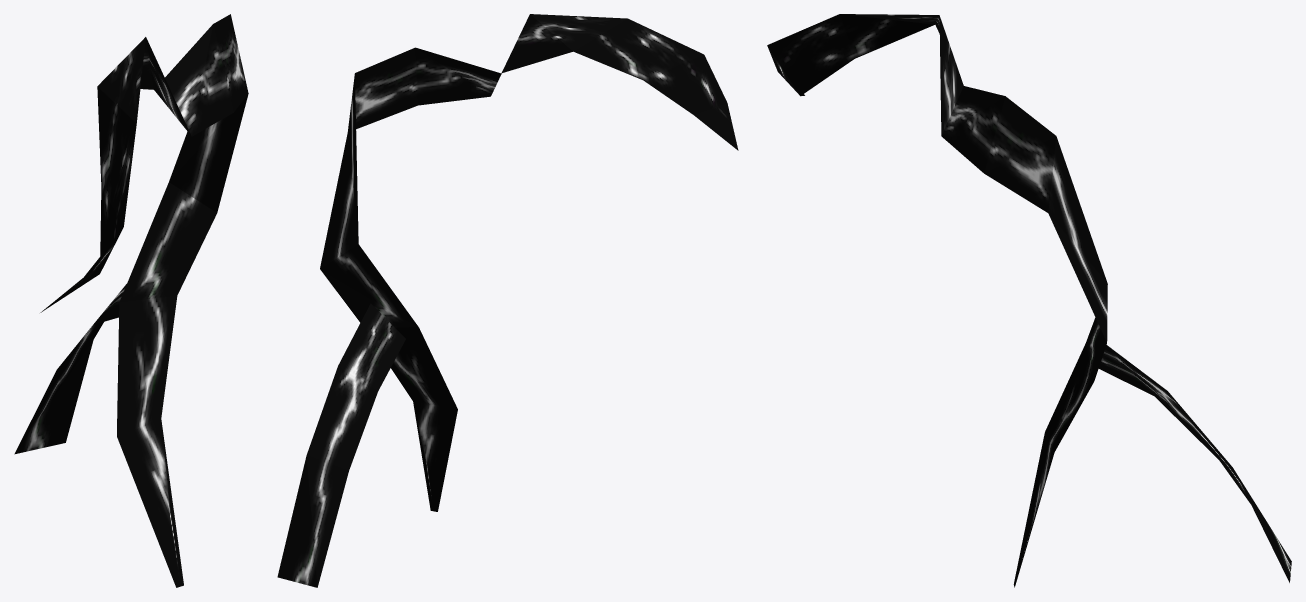
The model's file is sfyyy_sdmx_002.fbx.
3 renders of one model, left to right at view 1: azimuth 30°, elevation 25°; view 2: azimuth 150°, elevation 25°; view 3: azimuth 270°, elevation 25°, orthographic. The views are drawn at different scales.
Visible parts, largest first — view 1: sfyyy_sdmx_002; view 2: sfyyy_sdmx_002; view 3: sfyyy_sdmx_002.
Boxes of the visible parts, x1,y1,x2,y2 form: sfyyy_sdmx_002: (14,14,248,587); sfyyy_sdmx_002: (277,14,738,587); sfyyy_sdmx_002: (767,14,1291,587).
Bounding box in the file's own units: 1.78 × 2.95 × 2.61.
